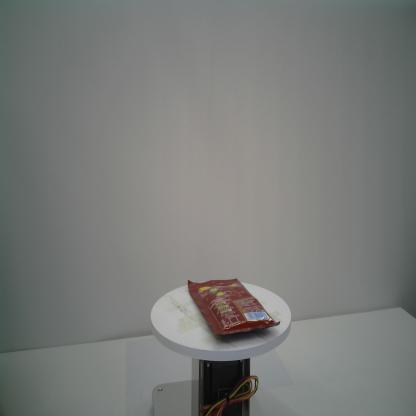Candy: (187, 278, 281, 338)
